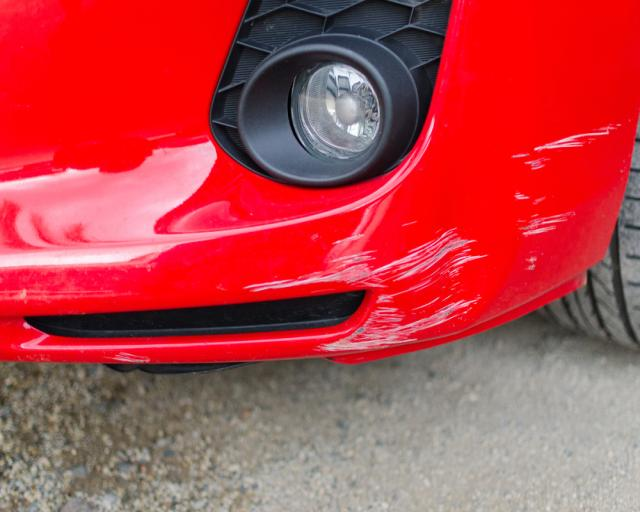scratch: (240, 219, 495, 356), (511, 116, 621, 271)
